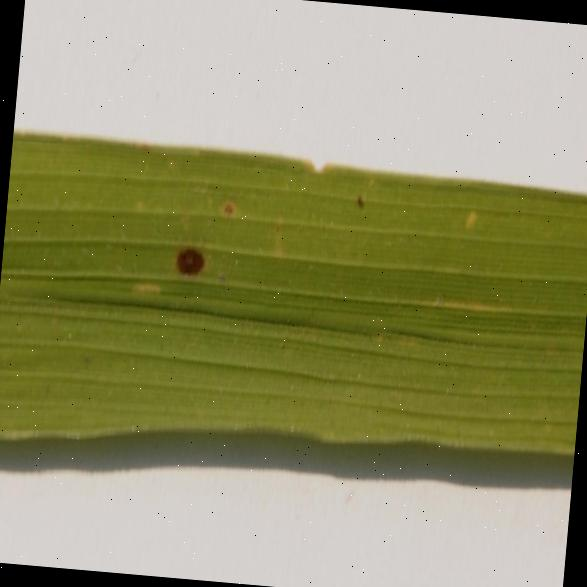Brown_Spot: (162, 206, 214, 294)
